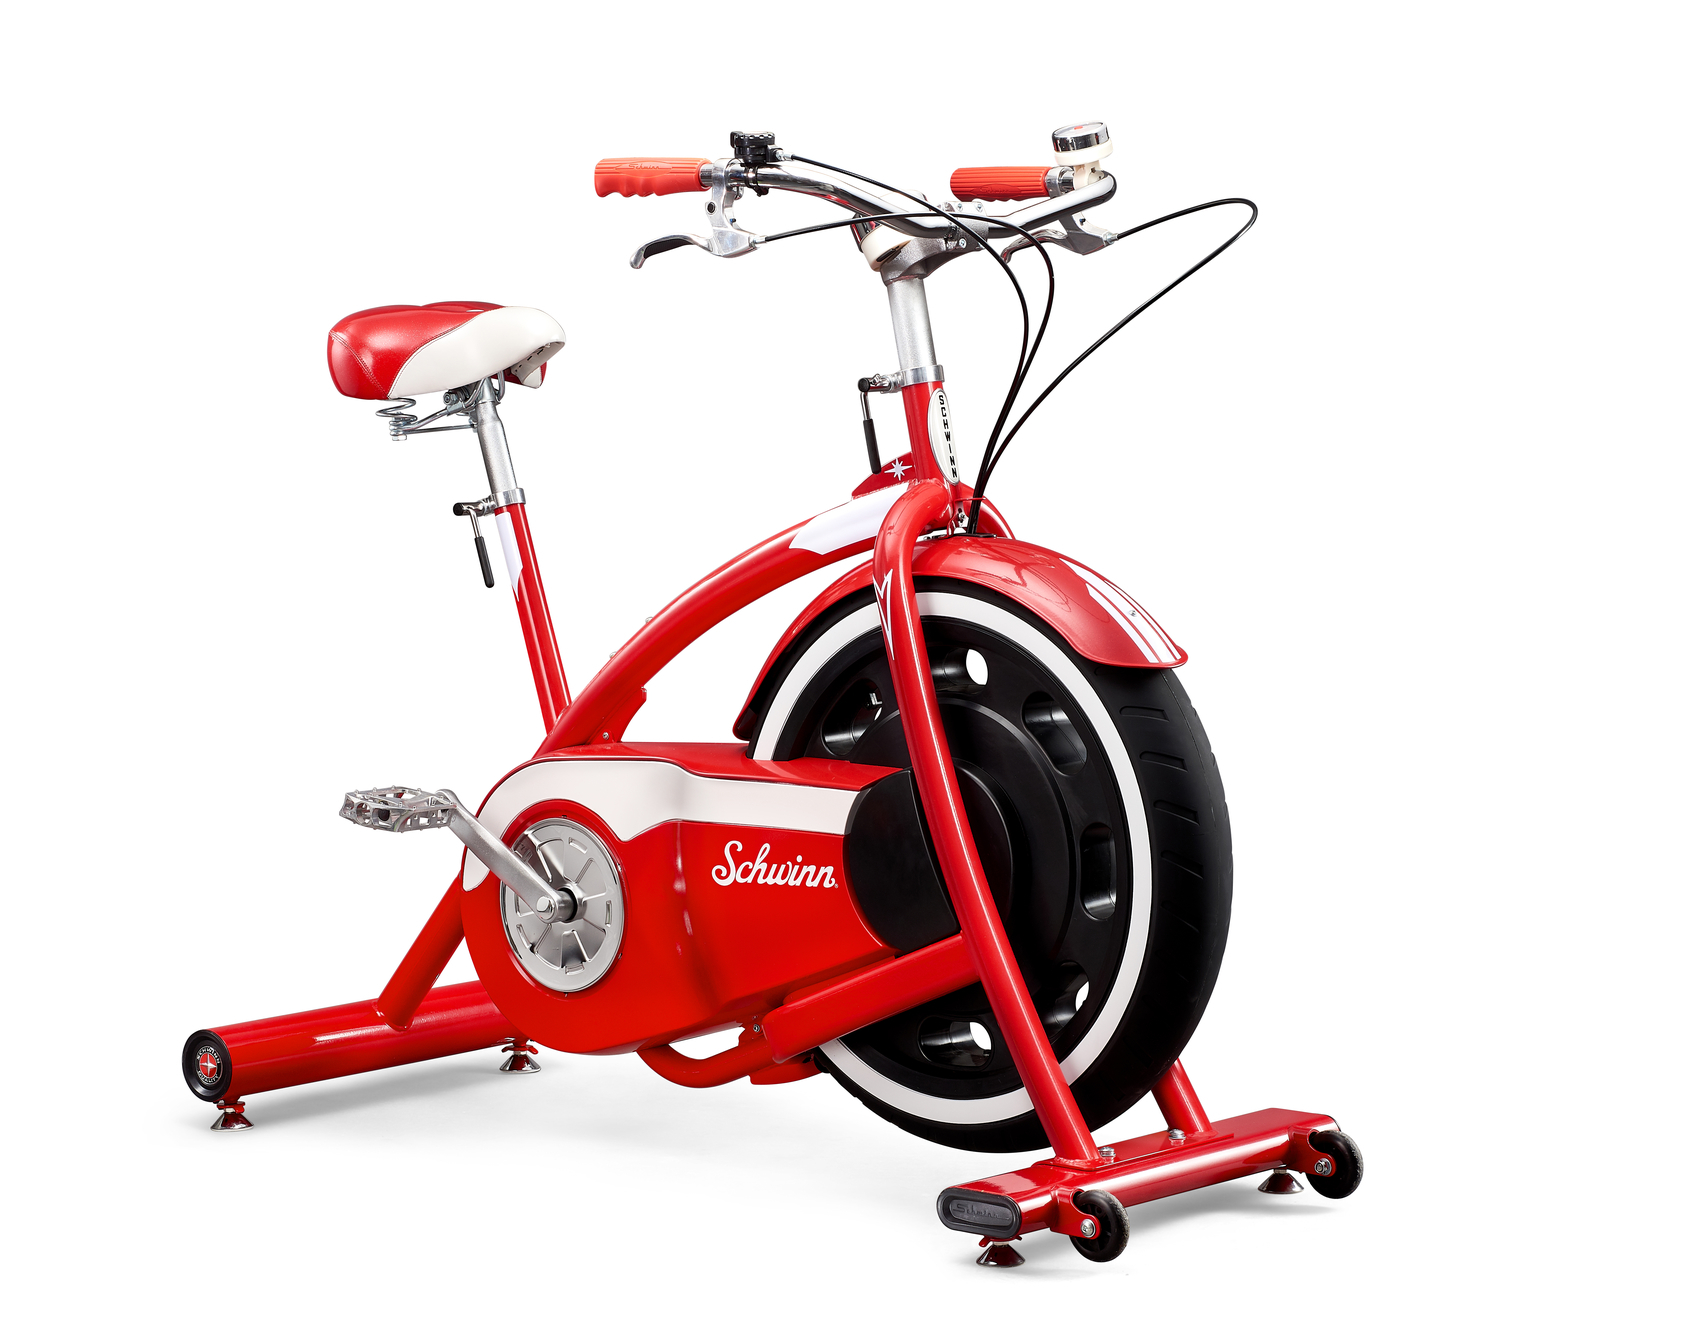gym_bike: (91, 139, 1396, 1268)
